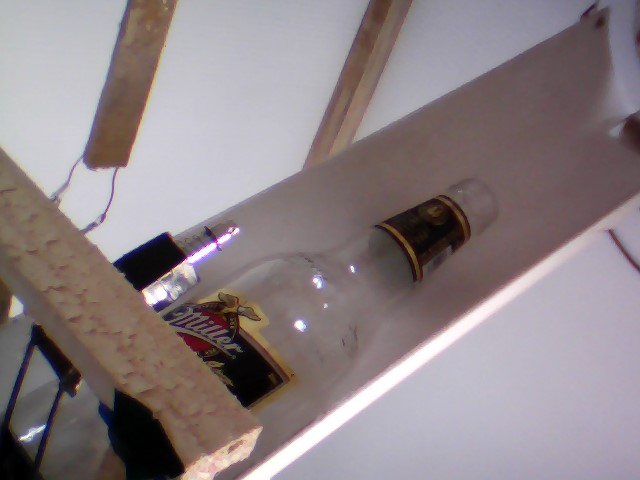vidrio: (171, 172, 513, 434)
